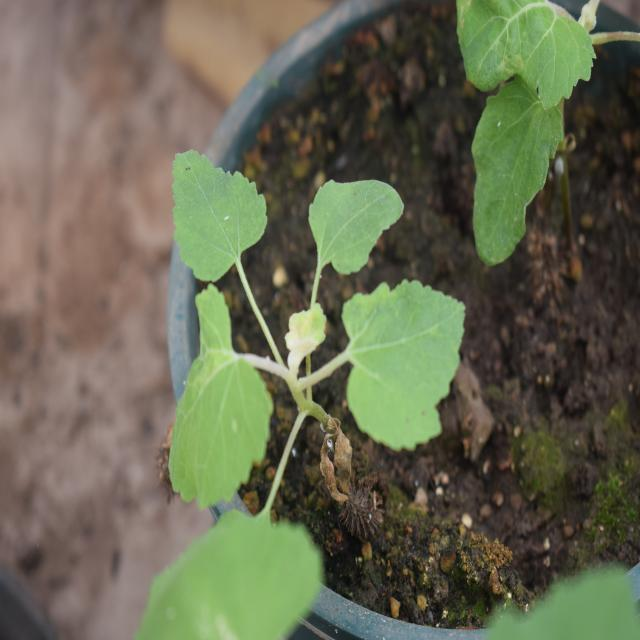cocklebur: (119, 143, 466, 528)
